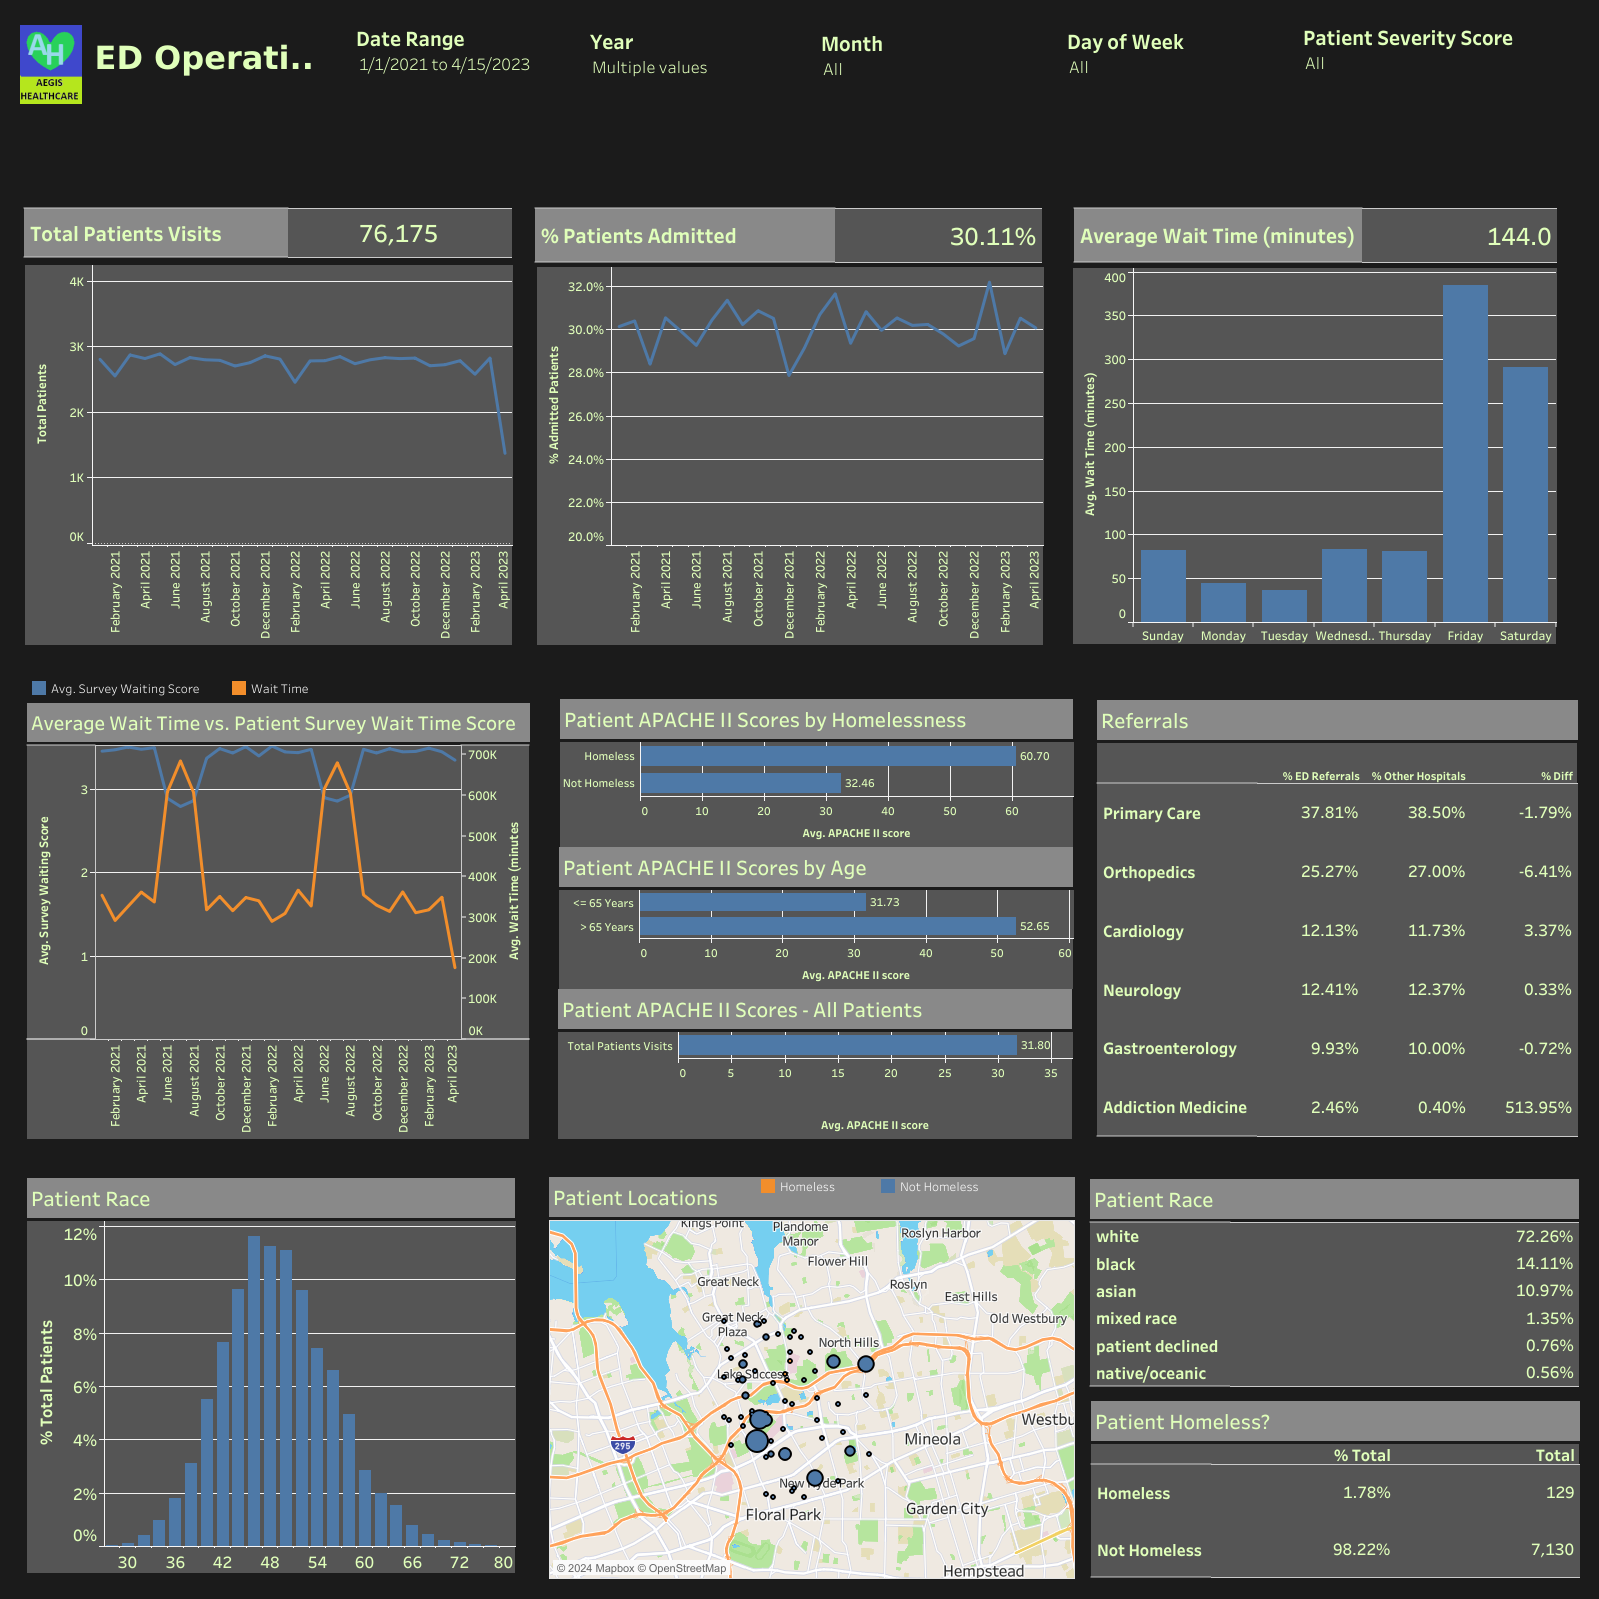

This screenshot's page, from the dashboard's own definition file:
{"tool":"tableau","page":{"name":"ED Operations","canvas":[1600,1600],"ordinal":0},"visuals":[{"type":"filter","title":"Total Patient Visits","param":"[federated.1aexgzp1js4u4v11cphpi02m4srt].[none:Calculation_504966168084865024:nk","box":[1303,22,249,81]},{"type":"filter","title":"Total Patient Visits","param":"[federated.1aexgzp1js4u4v11cphpi02m4srt].[none:Arrival Dt (copy)_904942109763252","box":[356,23,215,76]},{"type":"image","param":"D:/Projects/Aegis Healthcare Enterprise Dashboards/images/AE_icon.png","box":[20,25,132,79]},{"type":"text","box":[92,25,240,65]},{"type":"filter","title":"Total Patient Visits","param":"[federated.1aexgzp1js4u4v11cphpi02m4srt].[none:Calculation_904942109755514882:nk","box":[590,26,217,62]},{"type":"filter","title":"Total Patient Visits","param":"[federated.1aexgzp1js4u4v11cphpi02m4srt].[none:Calculation_504966168085258241:nk","box":[1067,26,205,56]},{"type":"filter","title":"Total Patient Visits","param":"[federated.1aexgzp1js4u4v11cphpi02m4srt].[none:Calculation_981503303653142528:nk","box":[821,28,217,57]},{"type":"worksheet","title":"Total Patient Visits (2)","mark":"Automatic","rows":["Calculation_1140818140462276608"],"box":[24,208,488,50]},{"type":"worksheet","title":"% Patients Admitted (2)","mark":"Automatic","rows":["All Patients (copy)_504966168089169922"],"box":[535,208,507,55]},{"type":"worksheet","title":"Avg Wait per DOW (2)","mark":"Automatic","rows":["All Patients (copy) (copy)_504966168089583619"],"box":[1074,208,483,55]},{"type":"worksheet","title":"Total Patient Visits","mark":"Automatic","rows":["Calculation_904942109752602625"],"cols":["arrival_dt"],"box":[25,265,487,380]},{"type":"worksheet","title":"% Patients Admitted","mark":"Automatic","rows":["Calculation_904942109760626693"],"cols":["arrival_dt"],"box":[537,267,506,378]},{"type":"worksheet","title":"Avg Wait per DOW","mark":"Bar","rows":["Calculation_904942109751967744"],"cols":["arrival_dt"],"box":[1073,268,483,376]},{"type":"legend","title":"Avg Satisfaction Scores","param":"[federated.1aexgzp1js4u4v11cphpi02m4srt].[:Measure Names]","box":[29,678,475,30]},{"type":"worksheet","title":"Homeless Apache","mark":"Automatic","rows":["patient_homeless"],"cols":["APACHE_II_score"],"box":[560,699,513,148]},{"type":"worksheet","title":"Referrals","mark":"Automatic","rows":["referral_name"],"box":[1097,700,481,437]},{"type":"worksheet","title":"Avg Satisfaction Scores","mark":"Automatic","rows":["survey_waiting_score","Calculation_904942109751967744"],"cols":["arrival_dt"],"box":[27,703,503,437]},{"type":"worksheet","title":"Age Apache","mark":"Automatic","rows":["Calculation_904942109774782472"],"cols":["APACHE_II_score"],"box":[559,847,514,142]},{"type":"worksheet","title":"Admitted Apache","mark":"Automatic","rows":["Calculation_1140818140462276608"],"cols":["APACHE_II_score"],"box":[558,989,514,150]},{"type":"legend","title":"Patient Locations","param":"[federated.1aexgzp1js4u4v11cphpi02m4srt].[none:patient_homeless:nk]","box":[758,1176,316,29]},{"type":"worksheet","title":"Patient Locations","mark":"Automatic","rows":["patient_lat"],"cols":["patient_long"],"box":[549,1177,526,402]},{"type":"worksheet","title":"Patient Age","mark":"Automatic","cols":["Patient Age (bin)"],"box":[27,1178,488,395]},{"type":"worksheet","title":"Patient Race","mark":"Automatic","rows":["patient_race"],"box":[1090,1179,489,208]},{"type":"legend","title":"Patient Race","param":"[federated.1aexgzp1js4u4v11cphpi02m4srt].[none:patient_race:nk]","box":[936,1184,151,155]},{"type":"worksheet","title":"Patient Homeless","mark":"Automatic","rows":["patient_homeless"],"box":[1091,1401,489,178]}]}

Visuals, with their boxes in screenshot pixels (x1, y1, x2, y2), scaled from the page's 1600x1600 canvas onto the 1599x1599 screenshot:
"Total Patient Visits" filter: box(1302, 22, 1551, 103)
"Total Patient Visits" filter: box(356, 23, 571, 99)
image: box(20, 25, 152, 104)
text: box(92, 25, 332, 90)
"Total Patient Visits" filter: box(590, 26, 806, 88)
"Total Patient Visits" filter: box(1066, 26, 1271, 82)
"Total Patient Visits" filter: box(820, 28, 1037, 85)
"Total Patient Visits (2)" worksheet: box(24, 208, 512, 258)
"% Patients Admitted (2)" worksheet: box(535, 208, 1041, 263)
"Avg Wait per DOW (2)" worksheet: box(1073, 208, 1556, 263)
"Total Patient Visits" worksheet: box(25, 265, 512, 645)
"% Patients Admitted" worksheet: box(537, 267, 1042, 645)
"Avg Wait per DOW" worksheet (Bar marks): box(1072, 268, 1555, 644)
"Avg Satisfaction Scores" legend: box(29, 678, 504, 708)
"Homeless Apache" worksheet: box(560, 699, 1072, 846)
"Referrals" worksheet: box(1096, 700, 1577, 1136)
"Avg Satisfaction Scores" worksheet: box(27, 703, 530, 1139)
"Age Apache" worksheet: box(559, 846, 1072, 988)
"Admitted Apache" worksheet: box(558, 988, 1071, 1138)
"Patient Locations" legend: box(758, 1175, 1073, 1204)
"Patient Locations" worksheet: box(549, 1176, 1074, 1578)
"Patient Age" worksheet: box(27, 1177, 515, 1572)
"Patient Race" worksheet: box(1089, 1178, 1578, 1386)
"Patient Race" legend: box(935, 1183, 1086, 1338)
"Patient Homeless" worksheet: box(1090, 1400, 1579, 1578)
